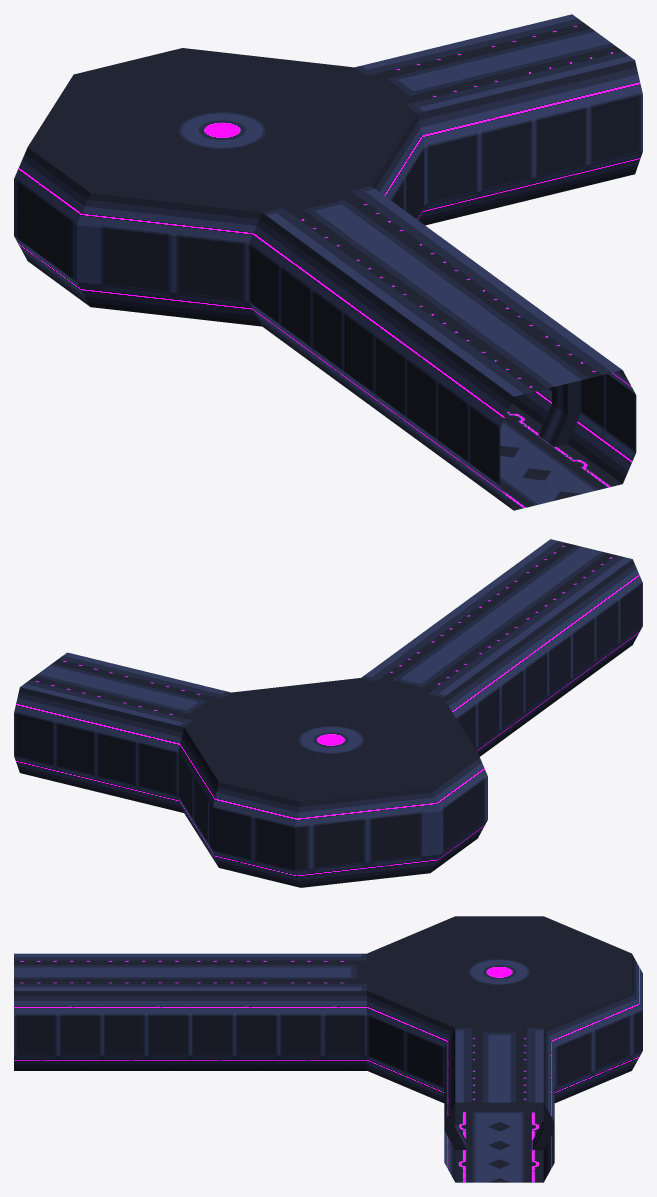
The model's file is Hub.fbx.
3 renders of one model, top to bottom at view 1: azimuth 30°, elevation 25°; view 2: azimuth 150°, elevation 25°; view 3: azimuth 270°, elevation 25°, orthographic. The views are drawn at different scales.
Visible parts, largest first — view 1: Wall_Angle_M_Wall_Angle_0, Wall.010_M_Wall_0, Wall.011_M_Wall_0, Wall_Angle_Spacer_M_Wall_Angle_Spacer_0, Wall.001_M_Wall_0, Wall.002_M_Wall_0, Wall.003_M_Wall_0, Wall_M_Wall_0, Floor.013_M_Ceiling_002_0, Floor.015_M_Ceiling_002_0, Ceiling.001_M_Ceiling_001_0, Ceiling.002_M_Ceiling_001_0 (+17 smaller); view 2: Wall_Angle.001_M_Wall_Angle_0, Wall_Angle_Spacer.001_M_Wall_0, Wall.008_M_Wall_0, Wall.009_M_Wall_0, Wall_Angle_Spacer_M_Wall_Angle_Spacer_0, Wall.002_M_Wall_0, Wall_M_Wall_0, Wall.001_M_Wall_0, Ceiling.002_M_Ceiling_001_0, Ceiling_M_Ceiling_001_0, Floor.013_M_Ceiling_002_0, Floor.015_M_Ceiling_002_0 (+13 smaller); view 3: Wall.005_M_Wall_0, Wall.006_M_Wall_0, Wall.007_M_Wall_0, Wall.004_M_Wall_0, Wall_Angle.003_M_Wall_Angle_0, Wall_Angle.002_M_Wall_Angle_0, Ceiling.002_M_Ceiling_001_0, Floor.012_M_Ceiling_004_0, Floor.014_M_Ceiling_002_0, Floor.016_M_Ceiling_003_0, Floor.017_M_Ceiling_002_0, Ceiling.003_M_Ceiling_001_0 (+18 smaller).
Part boxes in pixels (x1,y1,x2,y2): Wall_Angle_M_Wall_Angle_0: (90,193,261,326); Wall.010_M_Wall_0: (526,60,642,200); Wall.011_M_Wall_0: (417,87,533,225); Wall_Angle_Spacer_M_Wall_Angle_Spacer_0: (14,147,98,306); Wall.001_M_Wall_0: (374,305,450,464); Wall.002_M_Wall_0: (311,259,387,417); Wall.003_M_Wall_0: (248,213,324,371); Wall_M_Wall_0: (437,351,513,510); Floor.013_M_Ceiling_002_0: (325,232,496,304); Floor.015_M_Ceiling_002_0: (451,324,622,396); Ceiling.001_M_Ceiling_001_0: (246,67,416,139); Ceiling.002_M_Ceiling_001_0: (28,120,198,192); Wall_Angle.001_M_Wall_Angle_0: (301,787,430,887); Wall_Angle_Spacer.001_M_Wall_0: (208,782,311,887); Wall.008_M_Wall_0: (96,707,183,812); Wall.009_M_Wall_0: (14,687,101,792); Wall_Angle_Spacer_M_Wall_Angle_Spacer_0: (424,753,487,872); Wall.002_M_Wall_0: (490,628,548,748); Wall_M_Wall_0: (585,559,642,679); Wall.001_M_Wall_0: (538,594,595,713); Ceiling.002_M_Ceiling_001_0: (349,732,477,787); Ceiling_M_Ceiling_001_0: (219,747,347,801); Floor.013_M_Ceiling_002_0: (408,608,537,662); Floor.015_M_Ceiling_002_0: (503,539,632,593); Wall.005_M_Wall_0: (190,991,278,1070); Wall.006_M_Wall_0: (102,991,190,1070); Wall.007_M_Wall_0: (14,991,102,1070); Wall.004_M_Wall_0: (279,991,366,1070); Wall_Angle.003_M_Wall_Angle_0: (367,991,455,1102); Wall_Angle.002_M_Wall_Angle_0: (544,991,631,1102); Ceiling.002_M_Ceiling_001_0: (455,916,543,953); Floor.012_M_Ceiling_004_0: (455,953,543,990); Floor.014_M_Ceiling_002_0: (102,953,190,990); Floor.016_M_Ceiling_003_0: (455,1028,543,1065); Floor.017_M_Ceiling_002_0: (455,1065,543,1102); Ceiling.003_M_Ceiling_001_0: (367,953,455,990).
Size of the model in its own units: 1367 by 267 by 1900.
